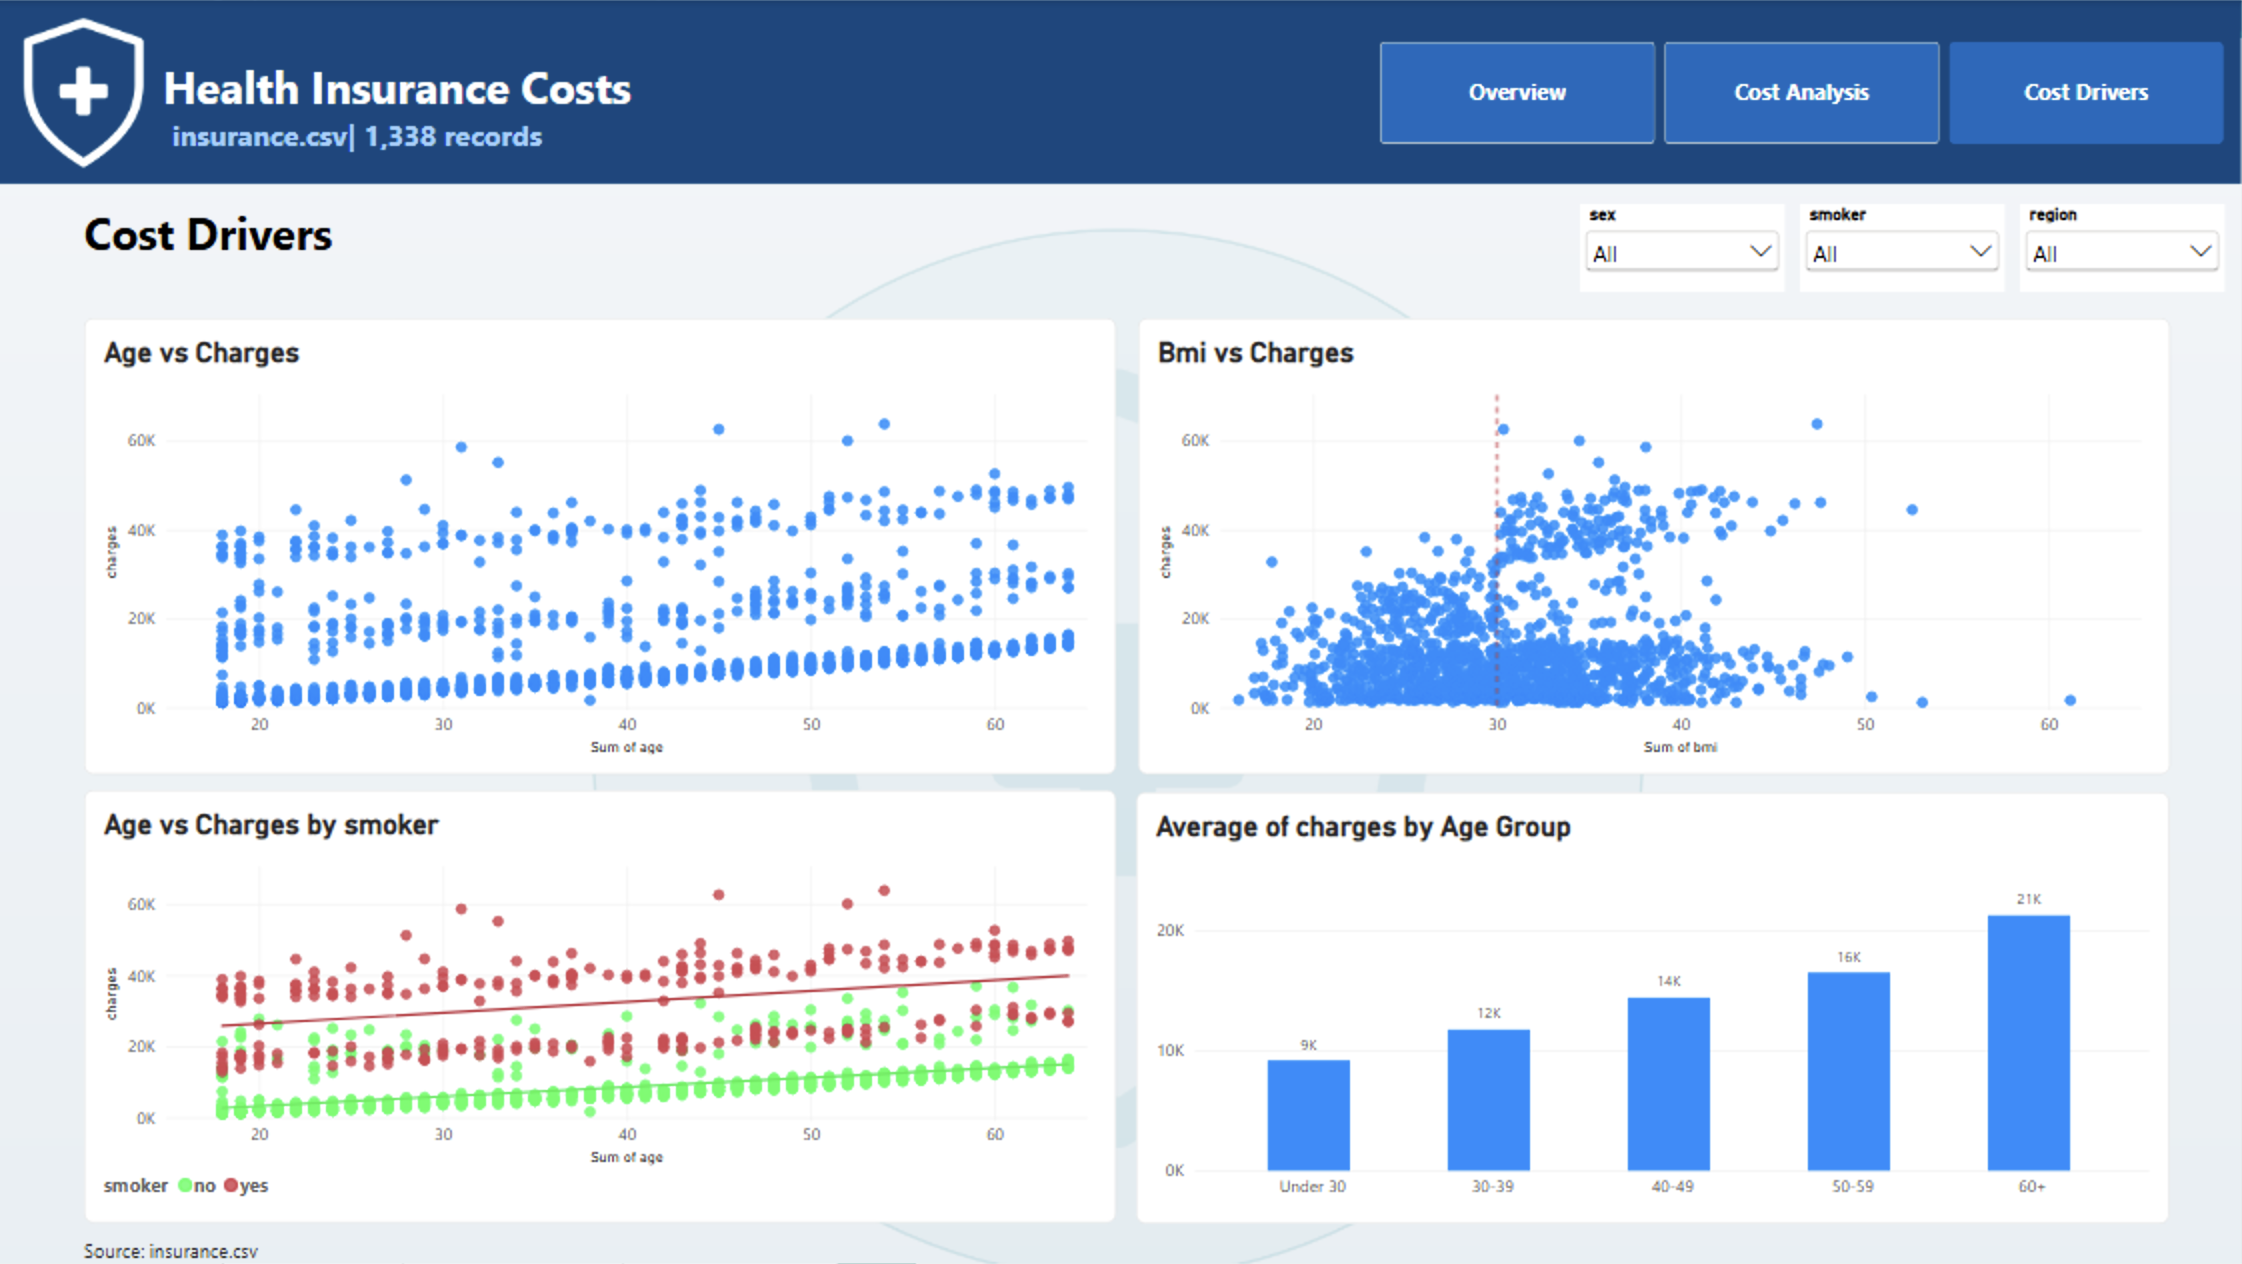

Layout of this report page (visuals, bound fields, positions):
{"tool":"powerbi","page":{"name":"Cost Drivers","canvas":[1920,1080],"ordinal":2},"visuals":[{"type":"textbox","box":[0,0,1920,156.5],"z":0},{"type":"textbox","box":[77.3,174.4,227.9,75.3],"z":1000},{"type":"slicer","fields":{"Values":["insurance.sex"]},"box":[1355,175,175,75],"z":2000},{"type":"slicer","fields":{"Values":["insurance.smoker"]},"box":[1543.3,175,175,75],"z":3000},{"type":"slicer","fields":{"Values":["insurance.region"]},"box":[1731.7,175,175,75],"z":4000},{"type":"image","box":[0,0,152.6,156.5],"z":6000},{"type":"scatterChart","title":"Age vs Charges","fields":{"X":["Sum(insurance.age)"],"Y":["insurance.charges"]},"box":[77.3,271.5,881.7,390.3],"z":7000},{"type":"scatterChart","title":"Bmi vs Charges","fields":{"X":["Sum(insurance.bmi)"],"Y":["insurance.charges"]},"box":[976.8,271.5,881.7,390.3],"z":7001},{"type":"scatterChart","title":"Age vs Charges by smoker","fields":{"Series":["insurance.smoker"],"X":["Sum(insurance.age)"],"Y":["insurance.charges"]},"box":[77.5,675,881.7,370.2],"z":7002},{"type":"clusteredColumnChart","fields":{"Category":["insurance.Age Group"],"Y":["Avg(insurance.charges)"]},"box":[976.4,676.7,883.4,368.5],"z":7003},{"type":"pageNavigator","box":[1286.3,51.7,600,50],"z":7004},{"type":"textbox","box":[77.5,1057.3,322,22.4],"z":7005},{"type":"pageNavigator","box":[1184.7,36.2,723.2,87.8],"z":7006}]}

Visuals, with their boxes in screenshot pixels (x1, y1, x2, y2), scaled from the page's 1920x1080 canvas onto the 2242x1264 screenshot:
textbox: [x1=0, y1=0, x2=2241, y2=183]
textbox: [x1=90, y1=204, x2=356, y2=292]
slicer - insurance.sex: [x1=1582, y1=205, x2=1787, y2=293]
slicer - insurance.smoker: [x1=1802, y1=205, x2=2006, y2=293]
slicer - insurance.region: [x1=2022, y1=205, x2=2226, y2=293]
image: [x1=0, y1=0, x2=178, y2=183]
"Age vs Charges" scatterChart: [x1=90, y1=318, x2=1120, y2=775]
"Bmi vs Charges" scatterChart: [x1=1141, y1=318, x2=2170, y2=775]
"Age vs Charges by smoker" scatterChart: [x1=90, y1=790, x2=1120, y2=1223]
clusteredColumnChart - insurance.Age Group x Avg(insurance.charges): [x1=1140, y1=792, x2=2172, y2=1223]
pageNavigator: [x1=1502, y1=61, x2=2203, y2=119]
textbox: [x1=90, y1=1237, x2=466, y2=1263]
pageNavigator: [x1=1383, y1=42, x2=2228, y2=145]
